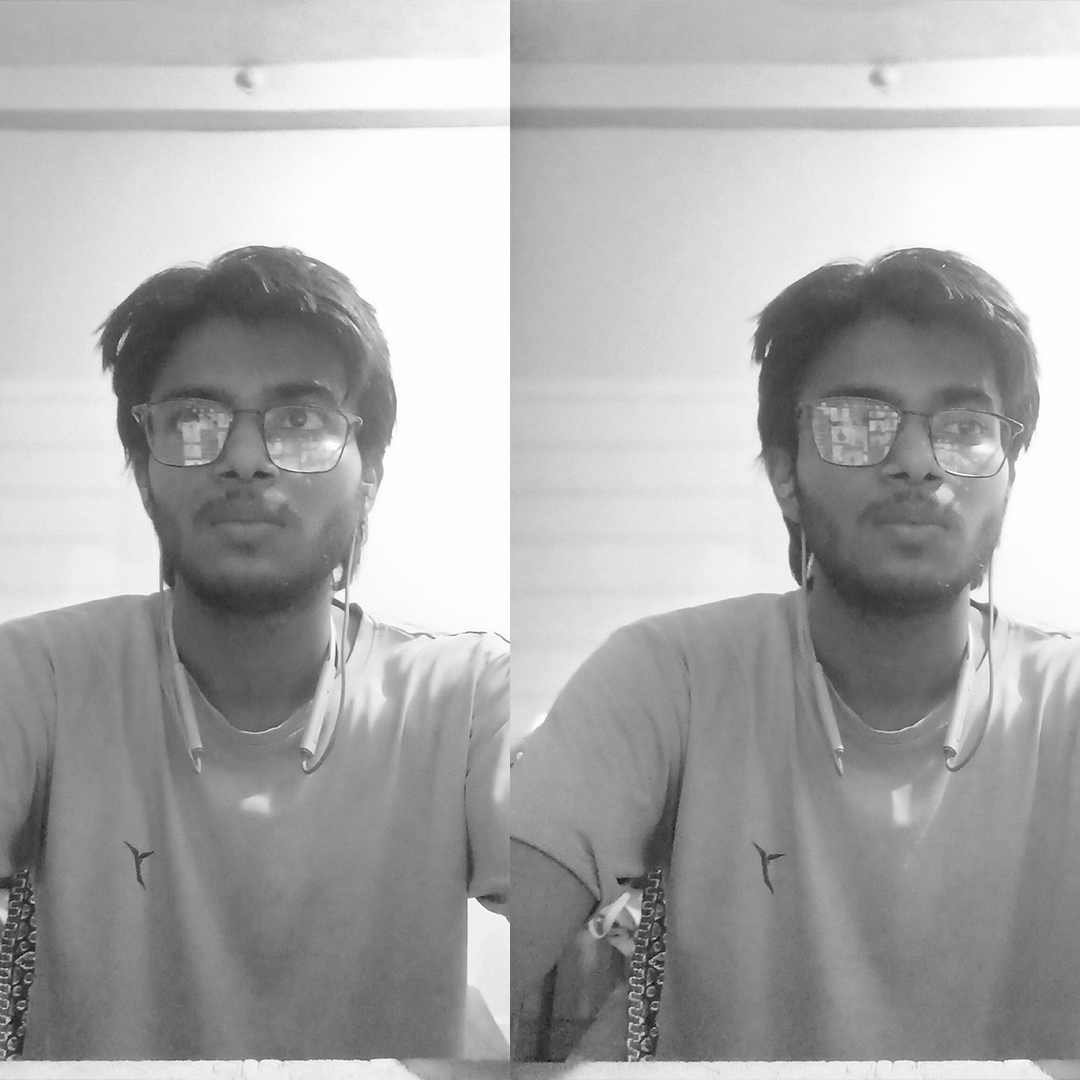Focused: (700, 148, 1069, 647)
distracted: (67, 221, 425, 666)
